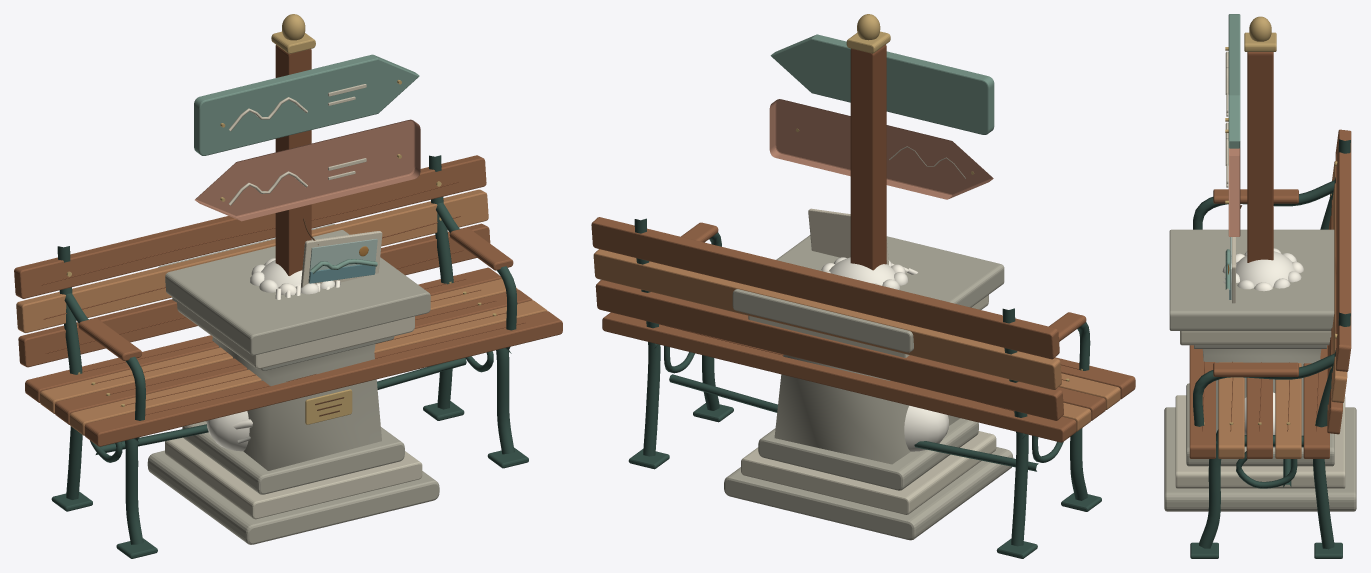
File: environment.glb
3 views of the same model, side by side, from view 1: azimuth 30°, elevation 25°; view 2: azimuth 150°, elevation 25°; view 3: azimuth 270°, elevation 25° (orthographic). The views are drawn at different scales.
Visible parts, largest first — view 1: bench · sculpted detail · 0.8, plinth · sculpted detail · 0.8, sign · sculpted detail · 0.8, bench · hardware · 0.5, bust · sculpted detail · 0.6, sign · hardware · 0.4, plinth · hardware · 0.4; view 2: bench · sculpted detail · 0.8, plinth · sculpted detail · 0.8, sign · sculpted detail · 0.8, bench · hardware · 0.5, bust · sculpted detail · 0.6, sign · hardware · 0.4; view 3: plinth · sculpted detail · 0.8, bench · sculpted detail · 0.8, sign · sculpted detail · 0.8, bench · hardware · 0.5, bust · sculpted detail · 0.6, sign · hardware · 0.4, bust · sculpted detail · 0.7.
Boxes of the visible parts, x1,y1,x2,y2 form: bench · sculpted detail · 0.8: [14, 155, 562, 446]; plinth · sculpted detail · 0.8: [147, 224, 439, 544]; sign · sculpted detail · 0.8: [194, 45, 420, 287]; bench · hardware · 0.5: [51, 155, 528, 558]; bust · sculpted detail · 0.6: [207, 260, 334, 451]; sign · hardware · 0.4: [220, 14, 401, 201]; plinth · hardware · 0.4: [305, 389, 352, 424]; bench · sculpted detail · 0.8: [591, 217, 1135, 442]; plinth · sculpted detail · 0.8: [724, 235, 1013, 540]; sign · sculpted detail · 0.8: [769, 34, 994, 270]; bench · hardware · 0.5: [628, 218, 1101, 558]; bust · sculpted detail · 0.6: [824, 257, 948, 451]; sign · hardware · 0.4: [796, 14, 974, 174]; plinth · sculpted detail · 0.8: [1164, 229, 1356, 511]; bench · sculpted detail · 0.8: [1189, 129, 1351, 458]; sign · sculpted detail · 0.8: [1225, 14, 1273, 303]; bench · hardware · 0.5: [1190, 139, 1350, 558]; bust · sculpted detail · 0.6: [1222, 248, 1301, 447]; sign · hardware · 0.4: [1225, 16, 1276, 203]; bust · sculpted detail · 0.7: [1223, 253, 1303, 291].
Size of the model in its own units: 1.66 by 1.61 by 0.62.
